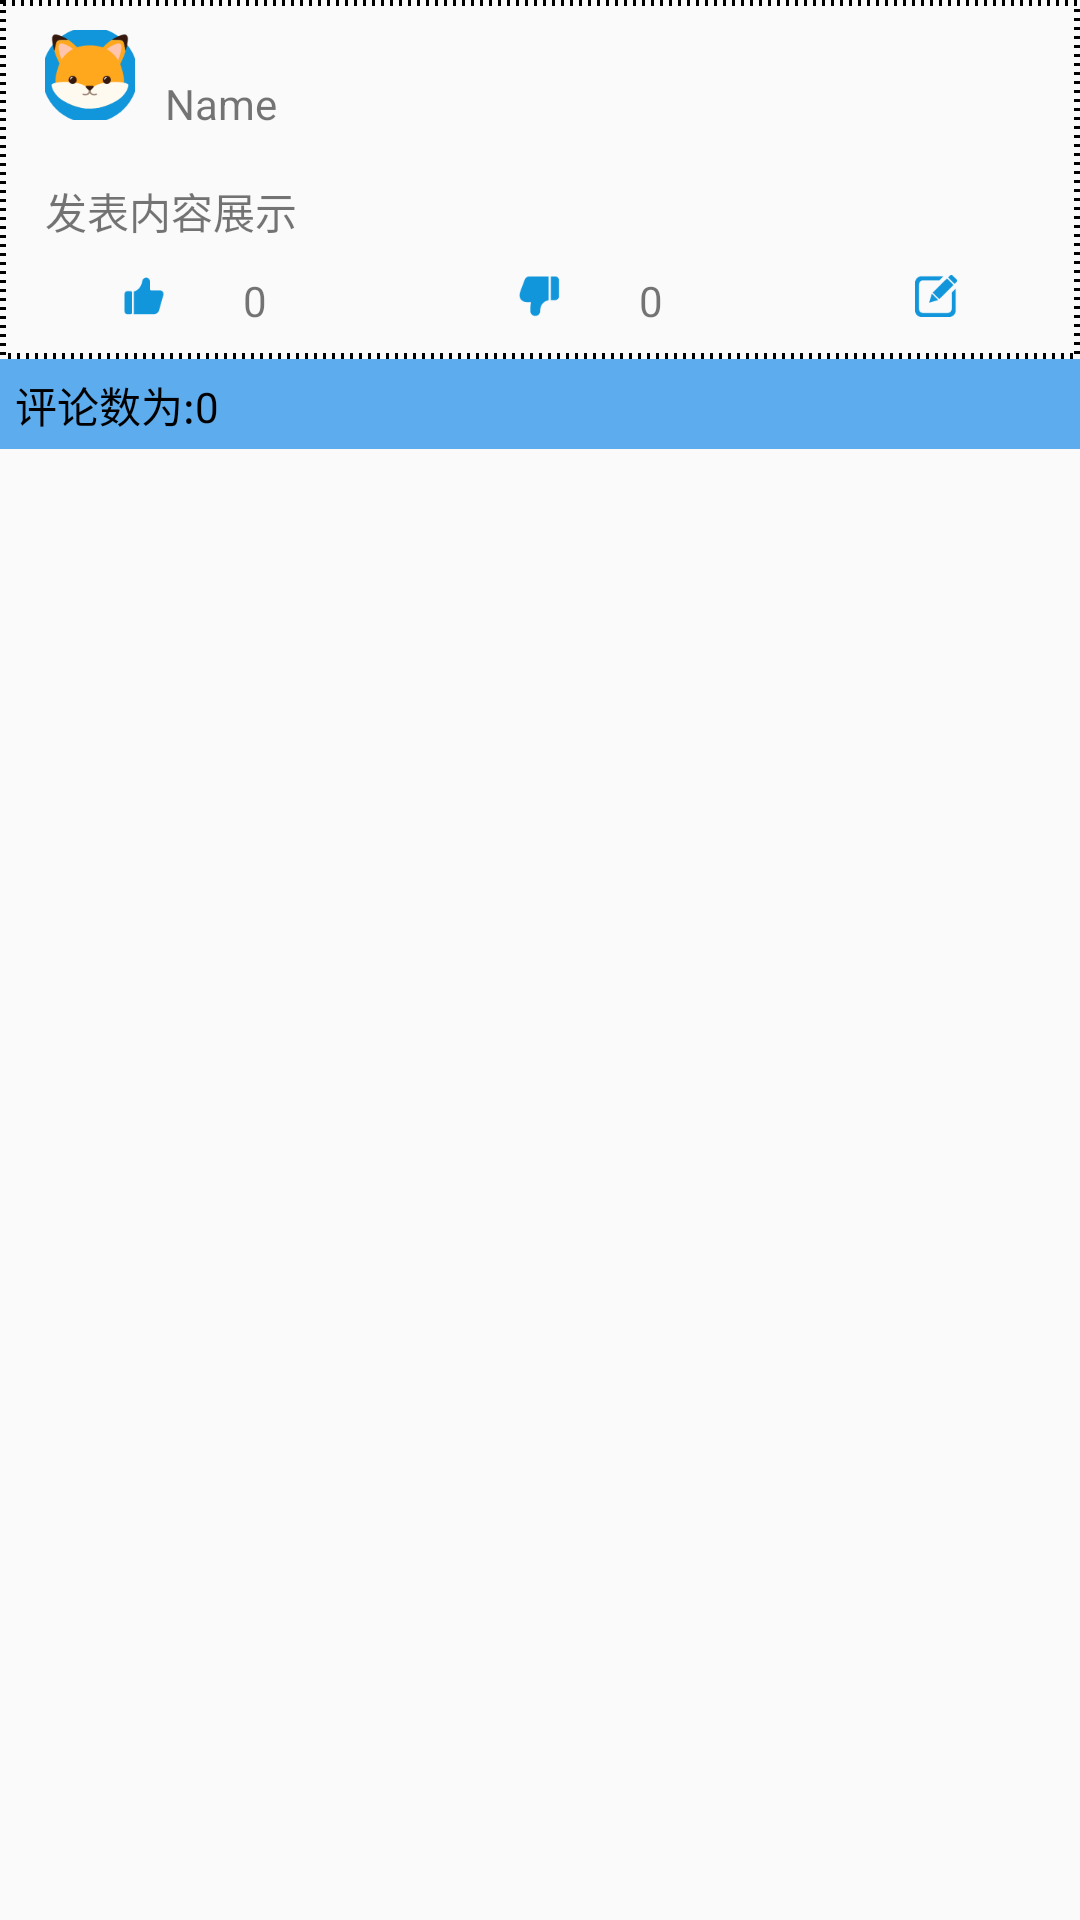

Where icons sit on this 1080 × 1920 app screen, as (x1, y1, x2, y2):
bad: (519, 276, 560, 316)
comment: (915, 275, 957, 317)
good: (124, 277, 164, 315)
userinfo: (45, 30, 135, 120)
